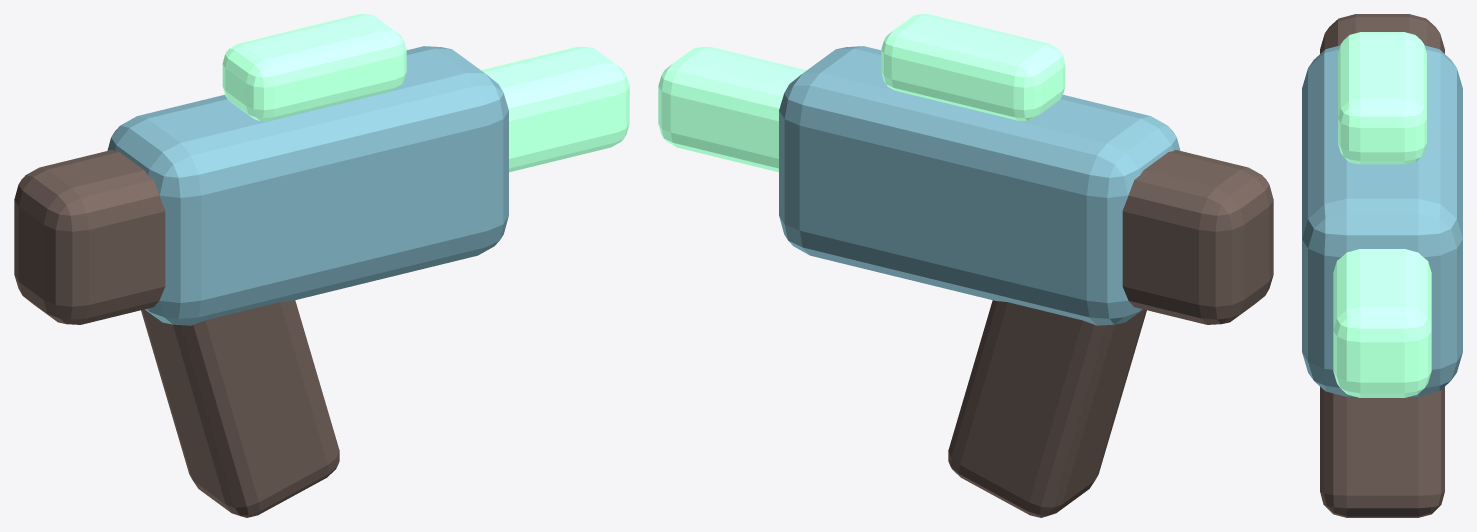
The model's file is spark-carbine.glb.
3 renders of one model, left to right at view 1: azimuth 30°, elevation 25°; view 2: azimuth 150°, elevation 25°; view 3: azimuth 270°, elevation 25°, orthographic. The views are drawn at different scales.
Visible parts, largest first — view 1: GunBody, GunGrip, GunStock, GunSight, GunBarrel; view 2: GunBody, GunGrip, GunStock, GunSight, GunBarrel; view 3: GunBody, GunGrip, GunBarrel, GunSight, GunStock.
Boxes of the visible parts, <box> form: GunBody: <box>107,46,508,325</box>; GunGrip: <box>141,300,339,517</box>; GunStock: <box>14,150,165,324</box>; GunSight: <box>222,14,406,121</box>; GunBarrel: <box>481,46,629,172</box>; GunBody: <box>779,46,1180,325</box>; GunGrip: <box>948,300,1146,517</box>; GunStock: <box>1122,150,1273,324</box>; GunSight: <box>881,14,1065,121</box>; GunBarrel: <box>658,46,806,172</box>; GunBody: <box>1302,45,1462,396</box>; GunGrip: <box>1320,387,1444,517</box>; GunBarrel: <box>1333,249,1431,397</box>; GunSight: <box>1338,32,1426,164</box>; GunStock: <box>1320,14,1444,53</box>.
Bounding box in the file's own units: 1.63 × 1.18 × 0.36.
